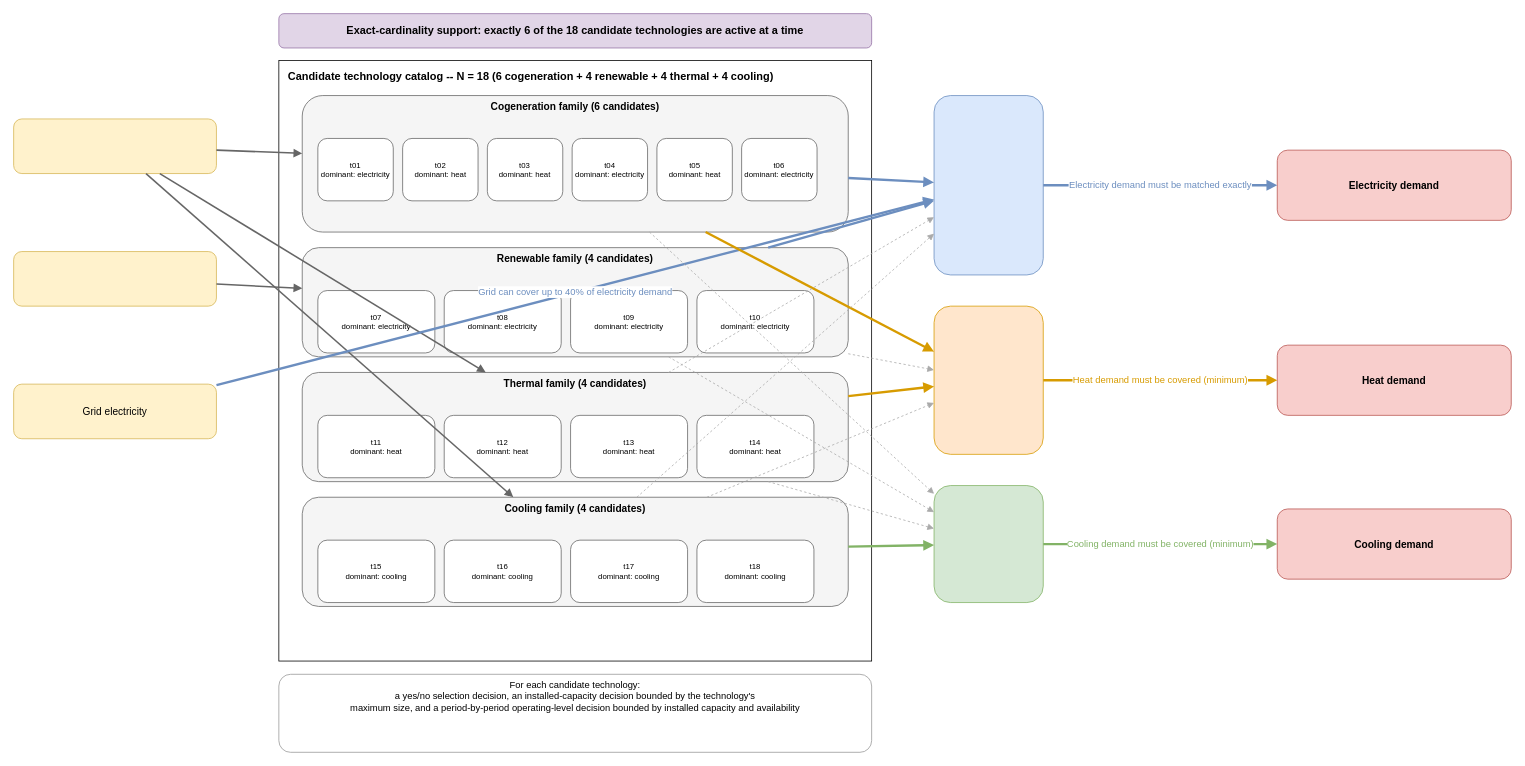
Some shapes in this 1525 by 766 pixel diagram are drawn without their labels. Here are the shapes that lost their labels. From the top down, the centre of each, then its label:
[114,146]: Dispatchable primary energy input
[988,185]: Electricity bus E
[114,278]: Renewable resource availability (time-varying)
[988,379]: Heat bus Q
[988,544]: Cooling bus C
